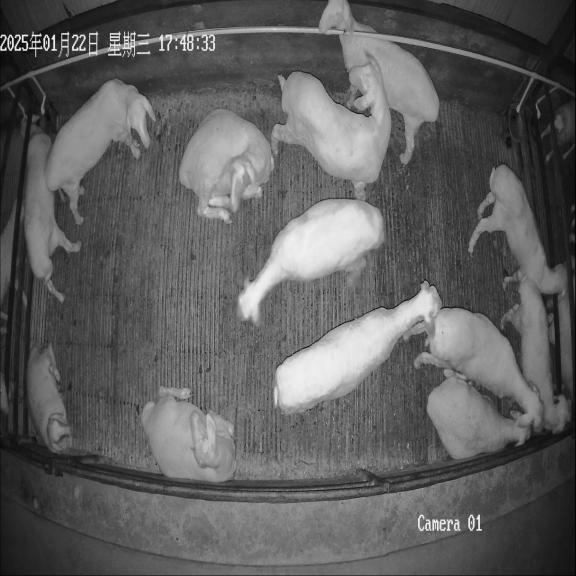drinking: (20, 111, 80, 302)
lying: (179, 109, 274, 223), (427, 369, 530, 459), (140, 387, 235, 482), (27, 344, 71, 453)
stand: (273, 281, 442, 413), (319, 0, 439, 165), (237, 199, 384, 326), (271, 57, 391, 200), (46, 79, 156, 225), (414, 308, 543, 431), (469, 164, 567, 296), (501, 270, 570, 433)
